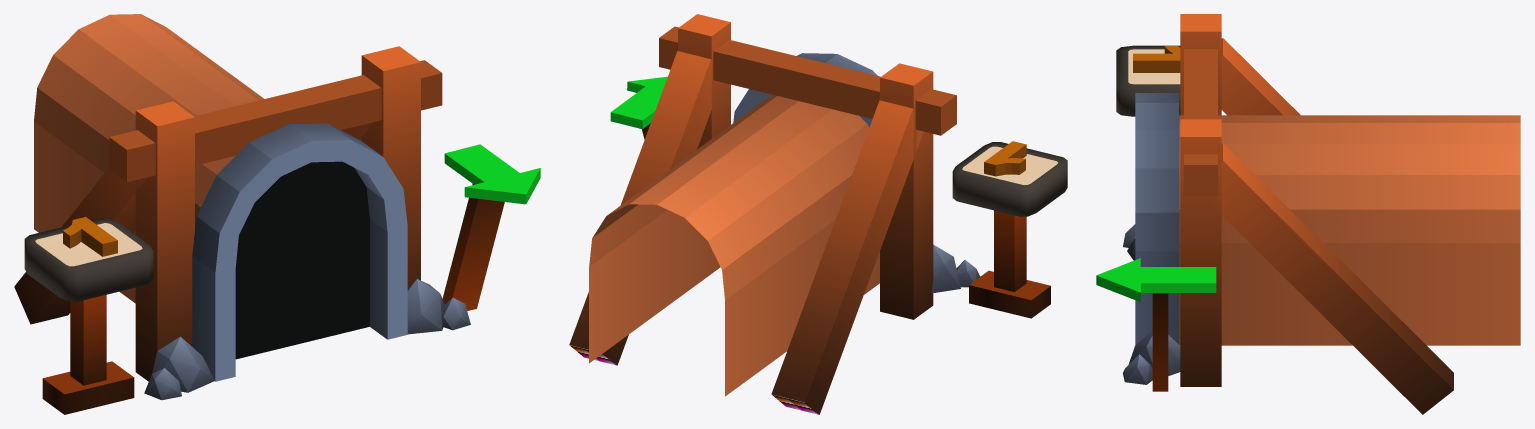
File: Green_1.fbx
3 views of the same model, side by side, from view 1: azimuth 30°, elevation 25°; view 2: azimuth 150°, elevation 25°; view 3: azimuth 270°, elevation 25° (orthographic). The views are drawn at different scales.
Parts seen in each view (by area): view 1: tunel_1.001, tunel_1.002, Text; view 2: tunel_1.001, tunel_1.002, Text; view 3: tunel_1.001, tunel_1.002, Text.
Part boxes in pixels (left/top/right/bottom): tunel_1.001: left=14, top=14, right=504, bottom=414; tunel_1.002: left=444, top=144, right=540, bottom=204; Text: left=63, top=217, right=117, bottom=256; tunel_1.001: left=569, top=14, right=1067, bottom=414; tunel_1.002: left=610, top=76, right=667, bottom=129; Text: left=984, top=141, right=1026, bottom=176; tunel_1.001: left=1116, top=14, right=1520, bottom=414; tunel_1.002: left=1096, top=258, right=1216, bottom=302; Text: left=1133, top=46, right=1180, bottom=72.
Bounding box in the file's own units: 816 × 468 × 647.
